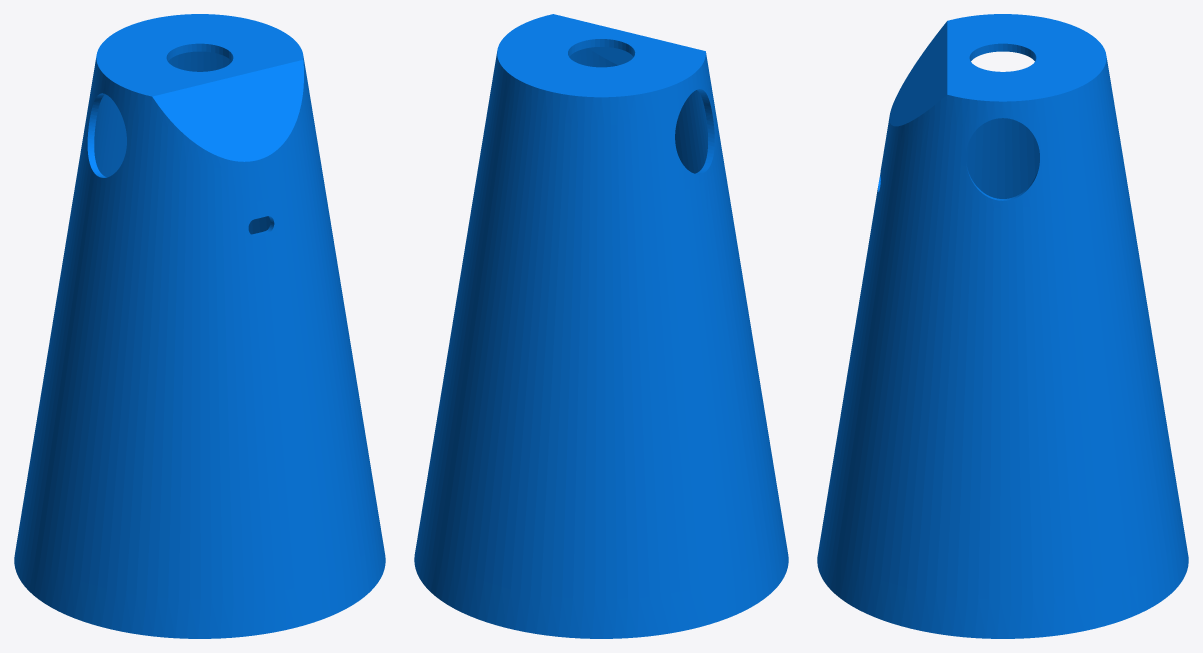
Rendered from mini_sobit_body_size_fix.dae.
The picture shows the model from 3 angles, left to right: view 1: azimuth 30°, elevation 25°; view 2: azimuth 150°, elevation 25°; view 3: azimuth 270°, elevation 25°; orthographic projection.
Visible parts, largest first — view 1: ボディ1; view 2: ボディ1; view 3: ボディ1.
Boxes of the visible parts, x1,y1,x2,y2 form: ボディ1: (14, 14, 385, 638); ボディ1: (414, 14, 788, 638); ボディ1: (817, 14, 1188, 638).
Size of the model in its own units: 0.4499 by 0.4499 by 0.672.
